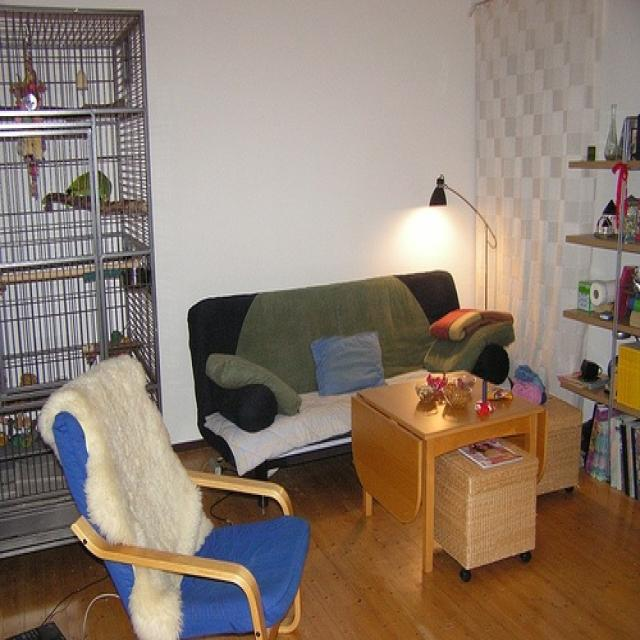chair: (37, 355, 310, 637)
sofa: (187, 270, 509, 507)
